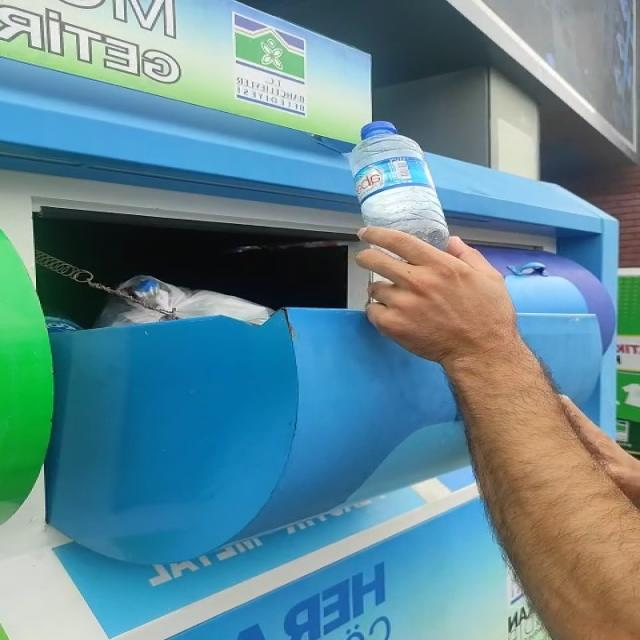plastic: (349, 121, 449, 249)
